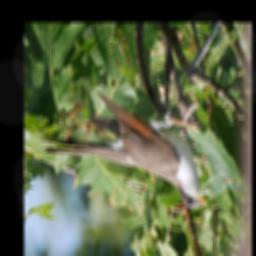Cuckoo: (39, 91, 208, 210)
